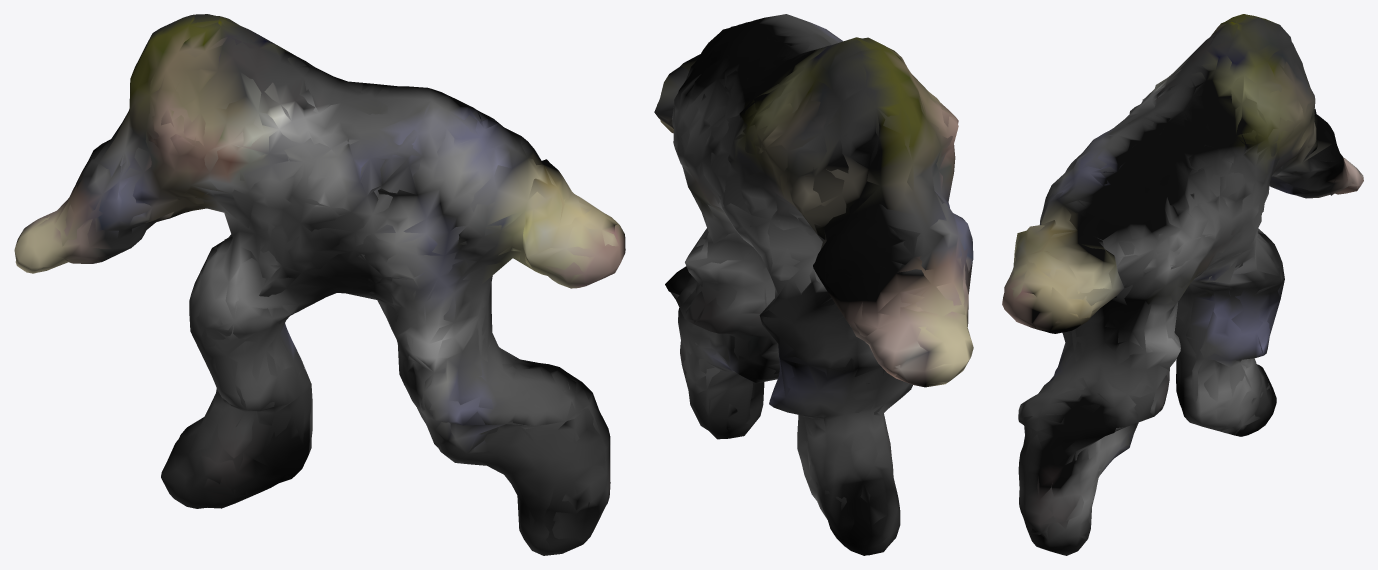
File: allied_spy.glb
3 renders of one model, left to right at view 1: azimuth 30°, elevation 25°; view 2: azimuth 150°, elevation 25°; view 3: azimuth 270°, elevation 25°, orthographic. The views are drawn at different scales.
Parts seen in each view (by area): view 1: allied_spy; view 2: allied_spy; view 3: allied_spy.
Boxes of the visible parts, x1,y1,x2,y2 form: allied_spy: (14, 14, 625, 555); allied_spy: (654, 14, 973, 555); allied_spy: (1002, 14, 1363, 555).
Bounding box in the file's own units: 1.66 × 1.84 × 1.38.
